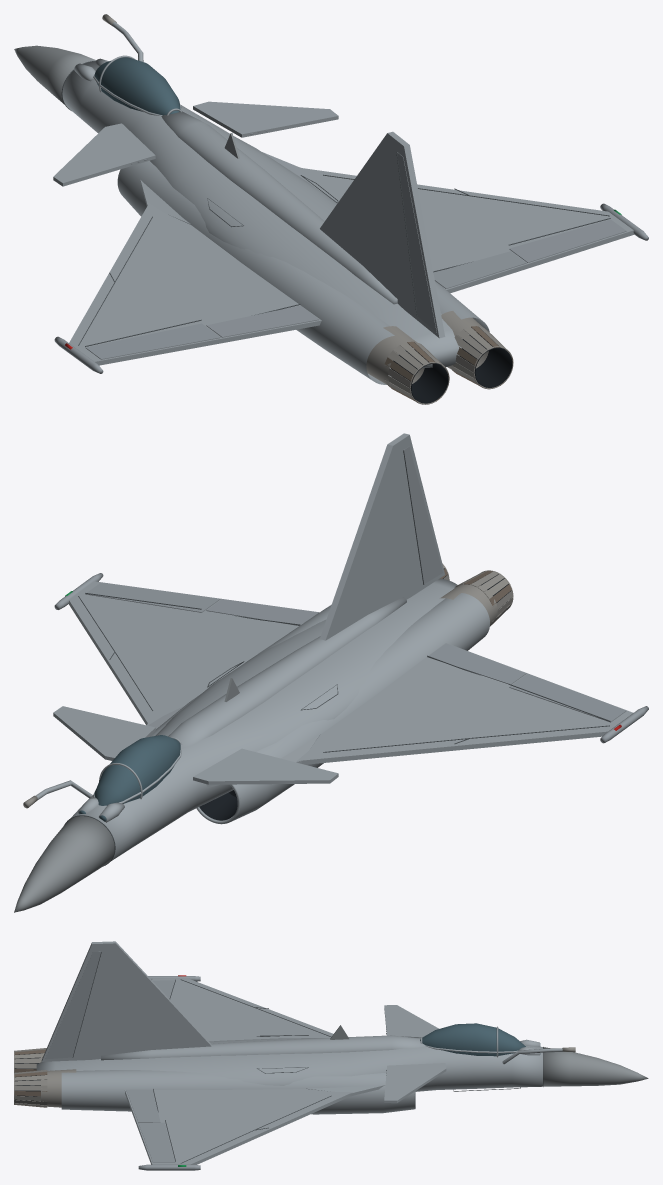
File: rafale-c.glb
3 renders of one model, top to bottom at view 1: azimuth 30°, elevation 25°; view 2: azimuth 150°, elevation 25°; view 3: azimuth 270°, elevation 25°, orthographic. The views are drawn at different scales.
Visible parts, largest first — view 1: Rafale | blended fuselage, Rafale | port delta wing, Rafale | starboard delta wing, Rafale | vertical fin, Rafale | port engine nacelle, Rafale | dorsal spine, Rafale | starboard canard, Rafale | port canard, Rafale | single-seat canopy, Rafale | radome, Rafale | port elevon 2, Rafale | rudder (+8 smaller); view 2: Rafale | blended fuselage, Rafale | port delta wing, Rafale | starboard delta wing, Rafale | vertical fin, Rafale | port engine nacelle, Rafale | dorsal spine, Rafale | radome, Rafale | single-seat canopy, Rafale | port canard, Rafale | starboard canard, Rafale | port elevon 2, Rafale | rudder (+5 smaller); view 3: Rafale | blended fuselage, Rafale | vertical fin, Rafale | starboard delta wing, Rafale | starboard engine nacelle, Rafale | port delta wing, Rafale | dorsal spine, Rafale | radome, Rafale | single-seat canopy, Rafale | rudder, Rafale | starboard canard, Rafale | port canard, Rafale | starboard elevon 2 (+4 smaller).
Part boxes in pixels (<box>): Rafale | blended fuselage: <box>62,61,469,367</box>; Rafale | port delta wing: <box>69,202,321,365</box>; Rafale | starboard delta wing: <box>296,166,633,293</box>; Rafale | vertical fin: <box>320,131,445,338</box>; Rafale | port engine nacelle: <box>118,160,394,384</box>; Rafale | dorsal spine: <box>161,111,397,304</box>; Rafale | starboard canard: <box>193,101,338,137</box>; Rafale | port canard: <box>53,123,155,186</box>; Rafale | single-seat canopy: <box>94,57,180,115</box>; Rafale | radome: <box>14,45,96,104</box>; Rafale | port elevon 2: <box>85,323,220,359</box>; Rafale | rudder: <box>397,152,436,332</box>; Rafale | blended fuselage: <box>71,578,457,860</box>; Rafale | port delta wing: <box>296,643,633,764</box>; Rafale | starboard delta wing: <box>69,581,298,725</box>; Rafale | vertical fin: <box>320,433,445,640</box>; Rafale | port engine nacelle: <box>223,593,489,821</box>; Rafale | dorsal spine: <box>168,597,406,748</box>; Rafale | radome: <box>14,816,114,912</box>; Rafale | single-seat canopy: <box>94,735,180,805</box>; Rafale | port canard: <box>193,748,338,784</box>; Rafale | starboard canard: <box>53,706,155,760</box>; Rafale | port elevon 2: <box>509,674,626,722</box>; Rafale | rudder: <box>403,446,442,583</box>; Rafale | blended fuselage: <box>36,1038,542,1091</box>; Rafale | vertical fin: <box>41,941,211,1061</box>; Rafale | starboard delta wing: <box>125,1089,353,1164</box>; Rafale | starboard engine nacelle: <box>61,1070,414,1114</box>; Rafale | port delta wing: <box>152,978,333,1041</box>; Rafale | dorsal spine: <box>101,1035,425,1060</box>; Rafale | radome: <box>543,1047,648,1086</box>; Rafale | single-seat canopy: <box>420,1023,525,1056</box>; Rafale | rudder: <box>45,951,101,1059</box>; Rafale | starboard canard: <box>384,1063,446,1103</box>; Rafale | port canard: <box>384,1005,438,1037</box>; Rafale | starboard elevon 2: <box>138,1122,175,1162</box>.
Size of the model in its own units: 10.9 by 4.17 by 15.3.
